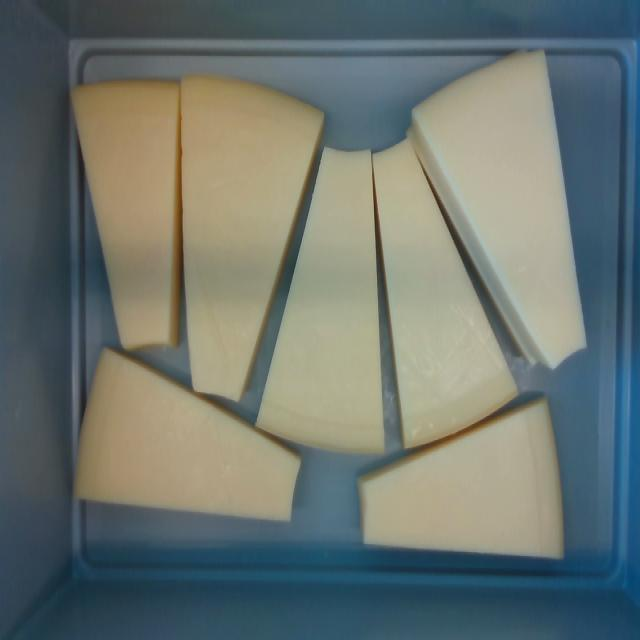Cheese: (413, 53, 583, 369), (181, 79, 323, 397), (375, 140, 517, 445), (257, 149, 383, 451), (76, 351, 298, 519), (361, 400, 562, 555), (75, 83, 178, 348)
